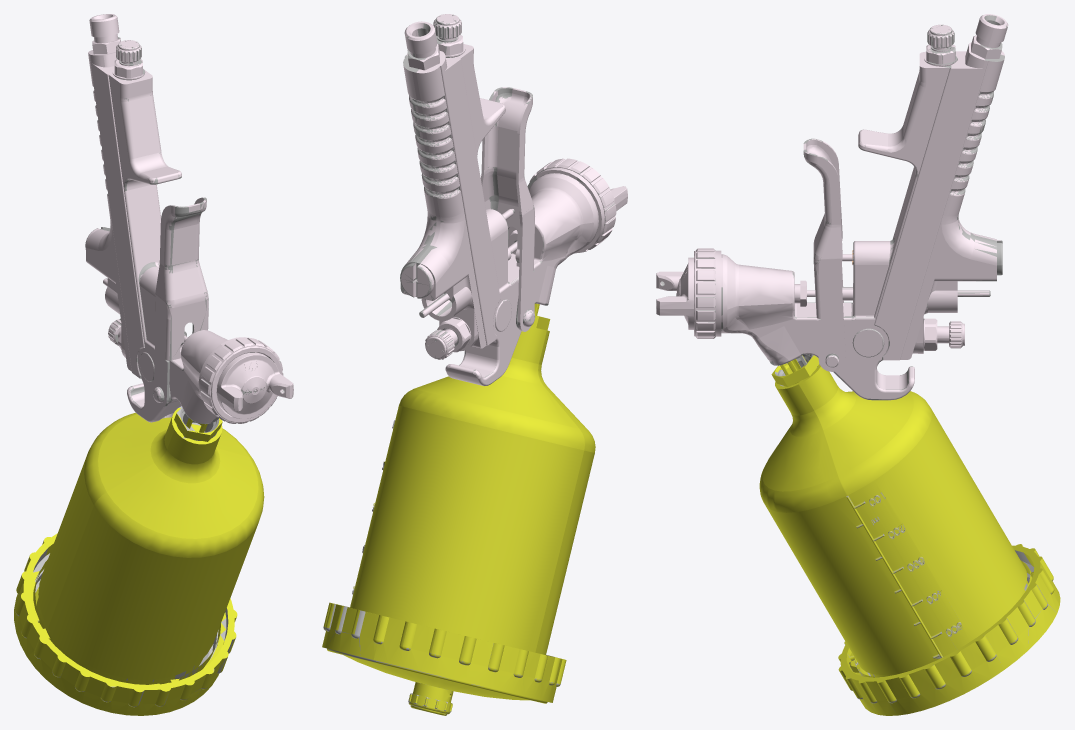
Rendered from spray_gun.glb.
The picture shows the model from 3 angles, left to right: view 1: azimuth 30°, elevation 25°; view 2: azimuth 150°, elevation 25°; view 3: azimuth 270°, elevation 25°; orthographic projection. The views are drawn at different scales.
Visible parts, largest first — view 1: empty_35; view 2: empty_35; view 3: empty_35.
Part boxes in pixels (bbox=[...]): empty_35: bbox=[14, 14, 293, 715]; empty_35: bbox=[322, 14, 627, 715]; empty_35: bbox=[656, 14, 1060, 715].
Size of the model in its own units: 0.1024 by 0.331 by 0.1785.
